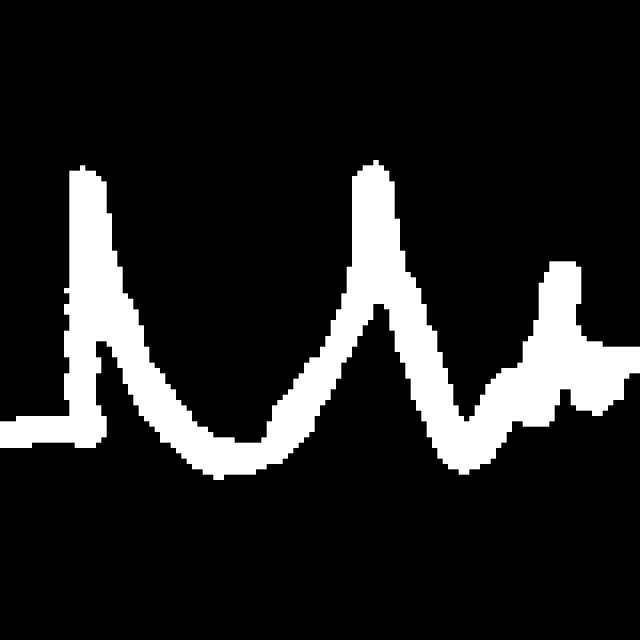resistor: (42, 138, 640, 506)
